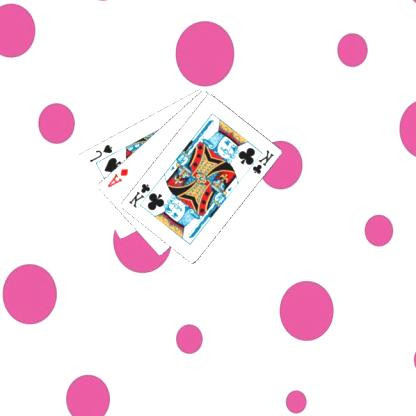AD: (106, 166, 131, 189)
JS: (88, 141, 116, 164)
KC: (127, 180, 159, 210), (246, 146, 277, 176)
